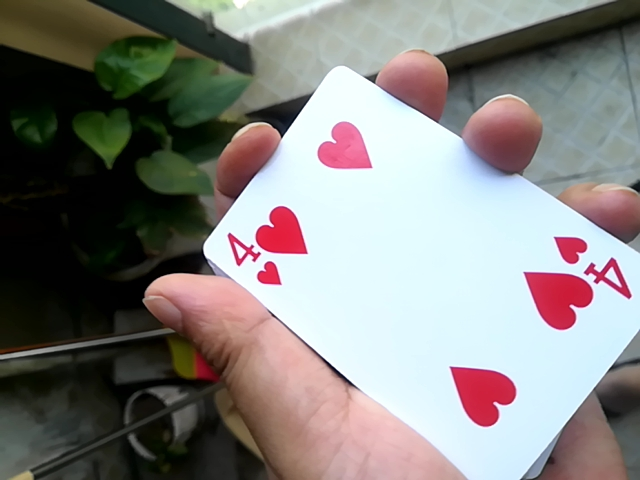hx 4: (183, 66, 636, 478)
